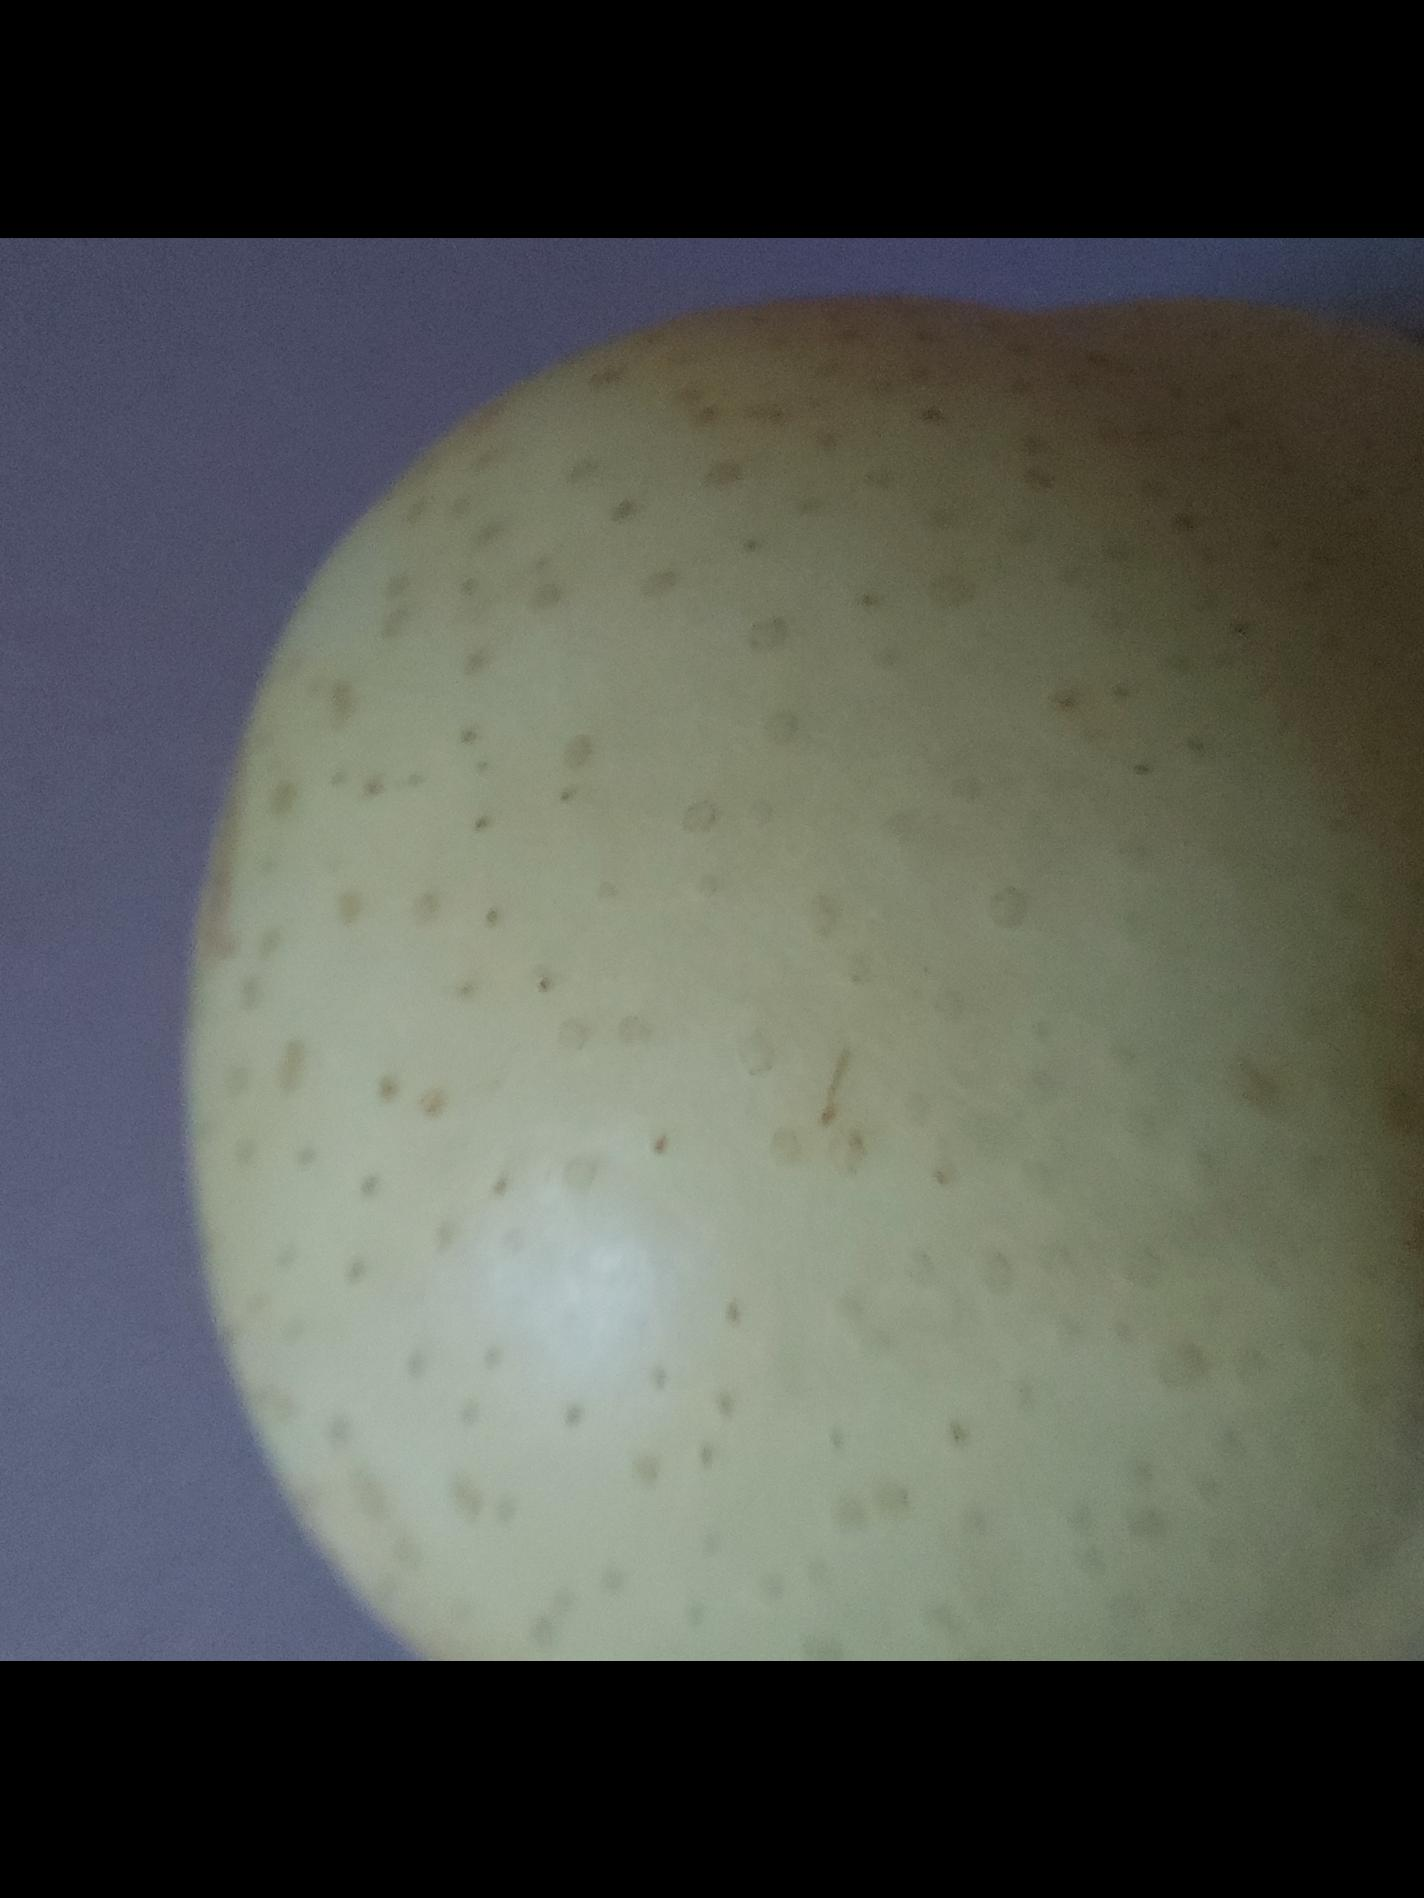Good Pear: (85, 260, 1424, 1662)
